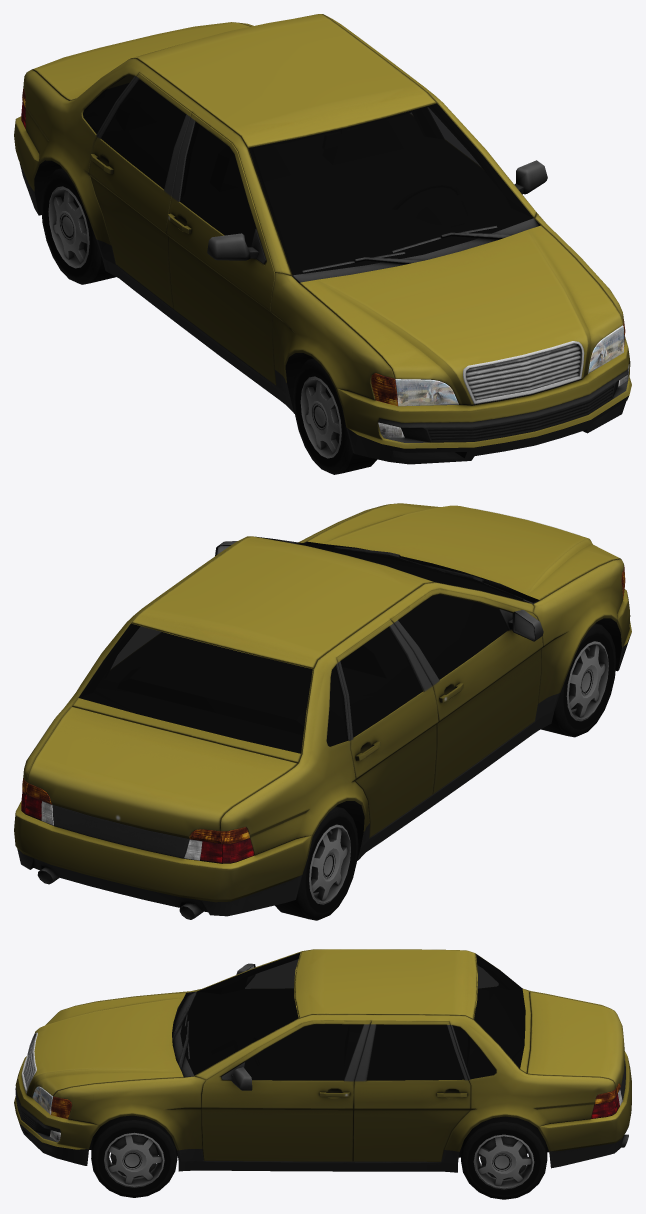
The model's file is sedan.glb.
3 renders of one model, top to bottom at view 1: azimuth 30°, elevation 25°; view 2: azimuth 150°, elevation 25°; view 3: azimuth 270°, elevation 25°, orthographic. The views are drawn at different scales.
Visible parts, largest first — view 1: Sedan Body, Wheel_A002, Wheel_A003; view 2: Sedan Body, Wheel_A003, Wheel_A002; view 3: Sedan Body, Wheel_A001, Wheel_A.
Boxes of the visible parts, x1,y1,x2,y2 form: Sedan Body: (14, 14, 631, 464); Wheel_A002: (293, 358, 377, 474); Wheel_A003: (41, 168, 115, 284); Sedan Body: (14, 503, 631, 919); Wheel_A003: (275, 806, 358, 920); Wheel_A002: (541, 623, 616, 737); Sedan Body: (14, 949, 631, 1172); Wheel_A001: (461, 1116, 547, 1199); Wheel_A: (91, 1115, 177, 1197).
Bounding box in the file's own units: 1.94 × 1.34 × 4.36.
4 materials, 3 textured.
